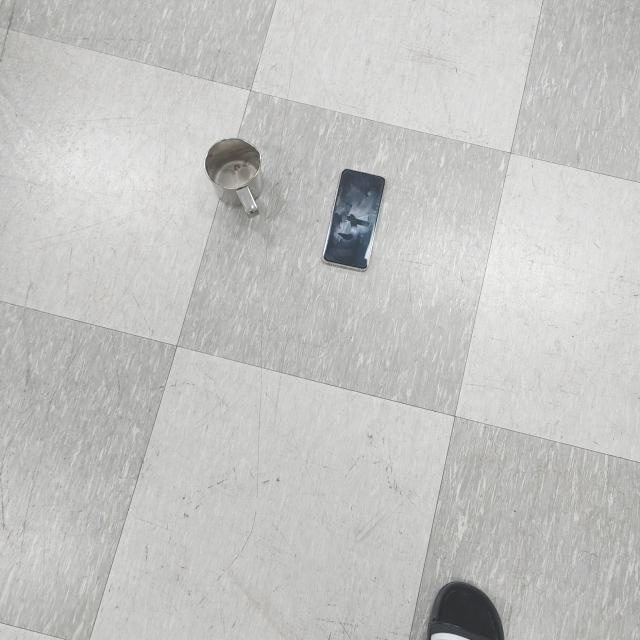cup: (204, 137, 263, 217)
phone: (321, 165, 389, 277)
